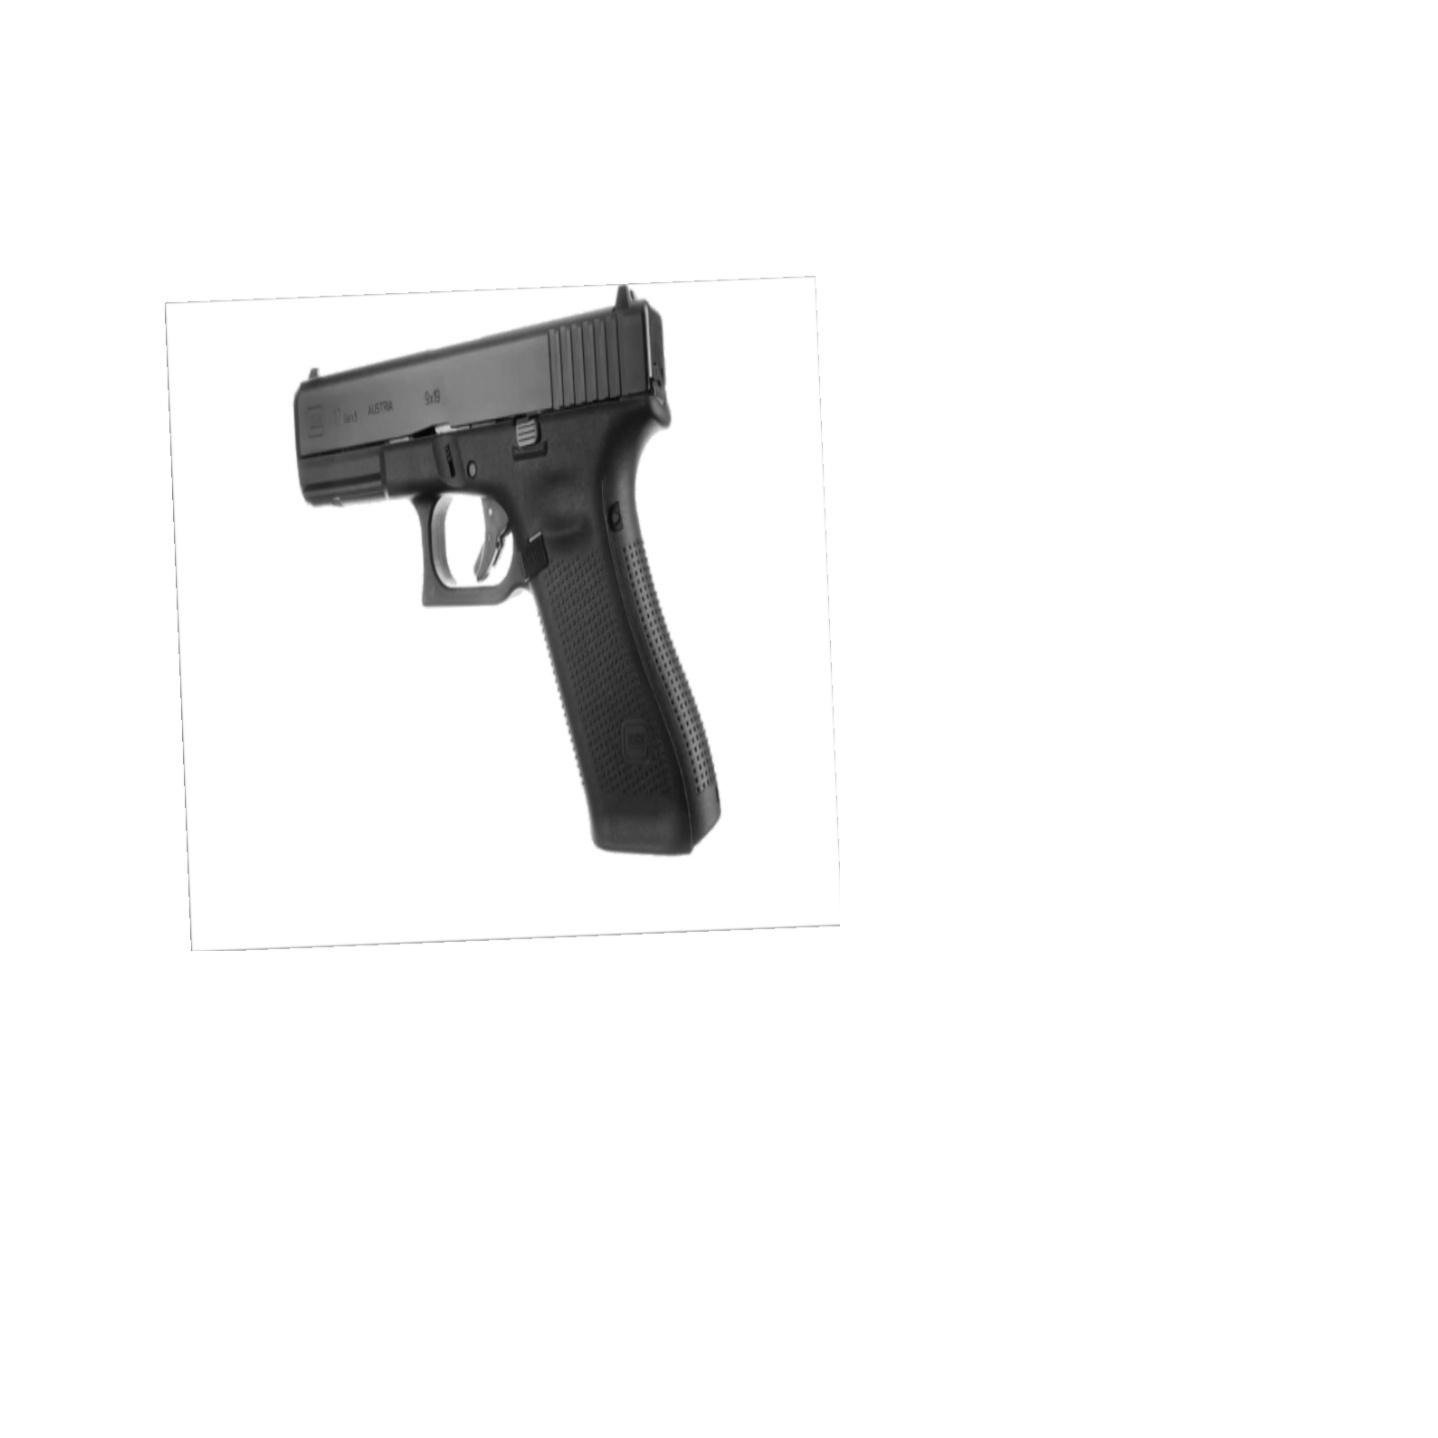gun: (296, 286, 722, 856)
